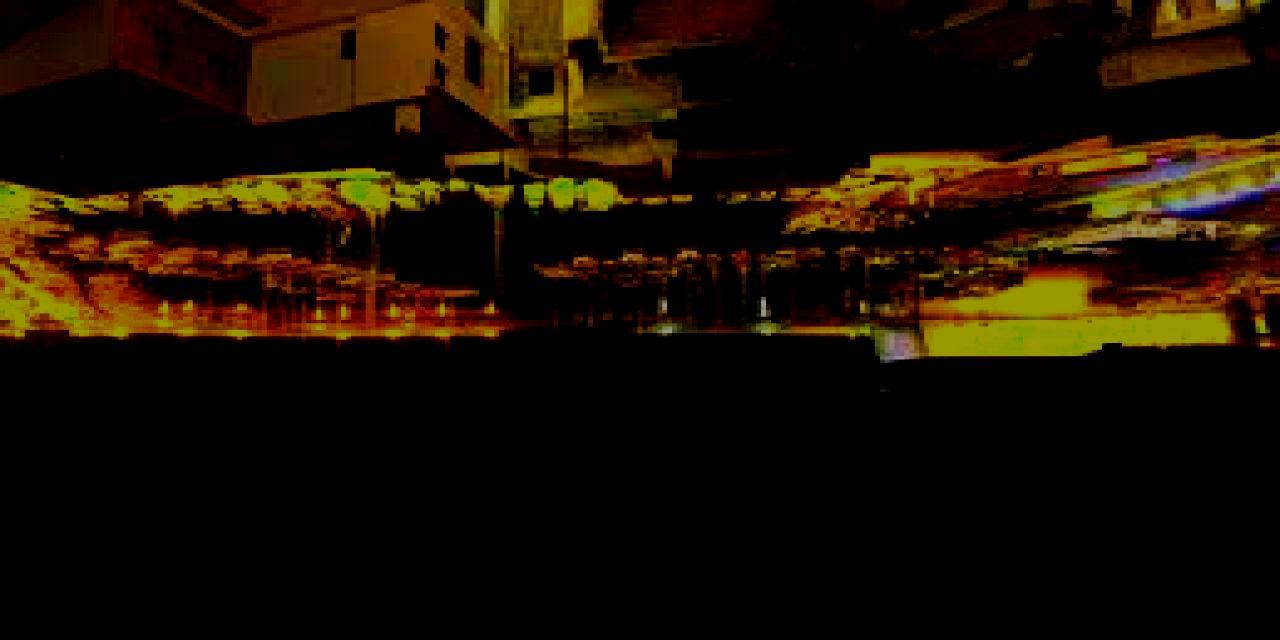Kules: (917, 317, 1239, 379)
